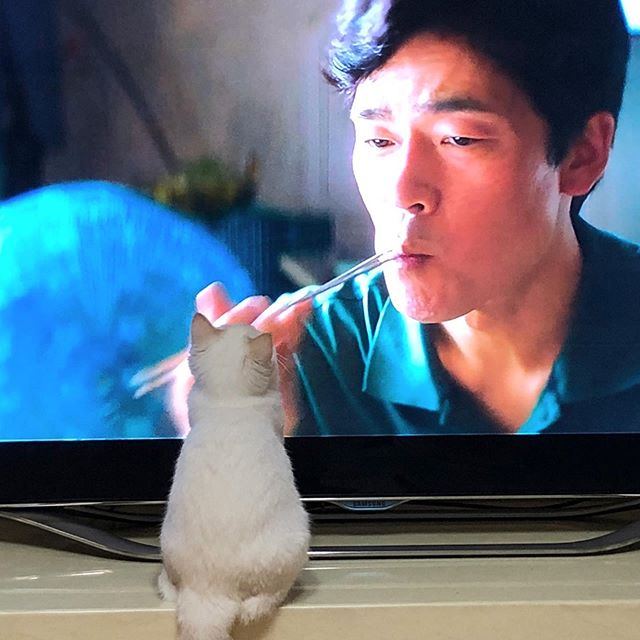cat: (175, 313, 292, 422)
